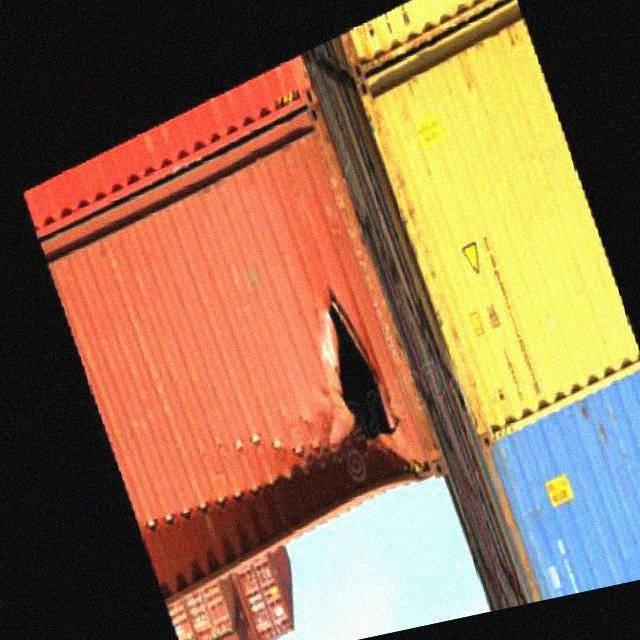Dent: (132, 440, 292, 566)
Hole: (227, 421, 434, 566), (283, 285, 418, 457)
